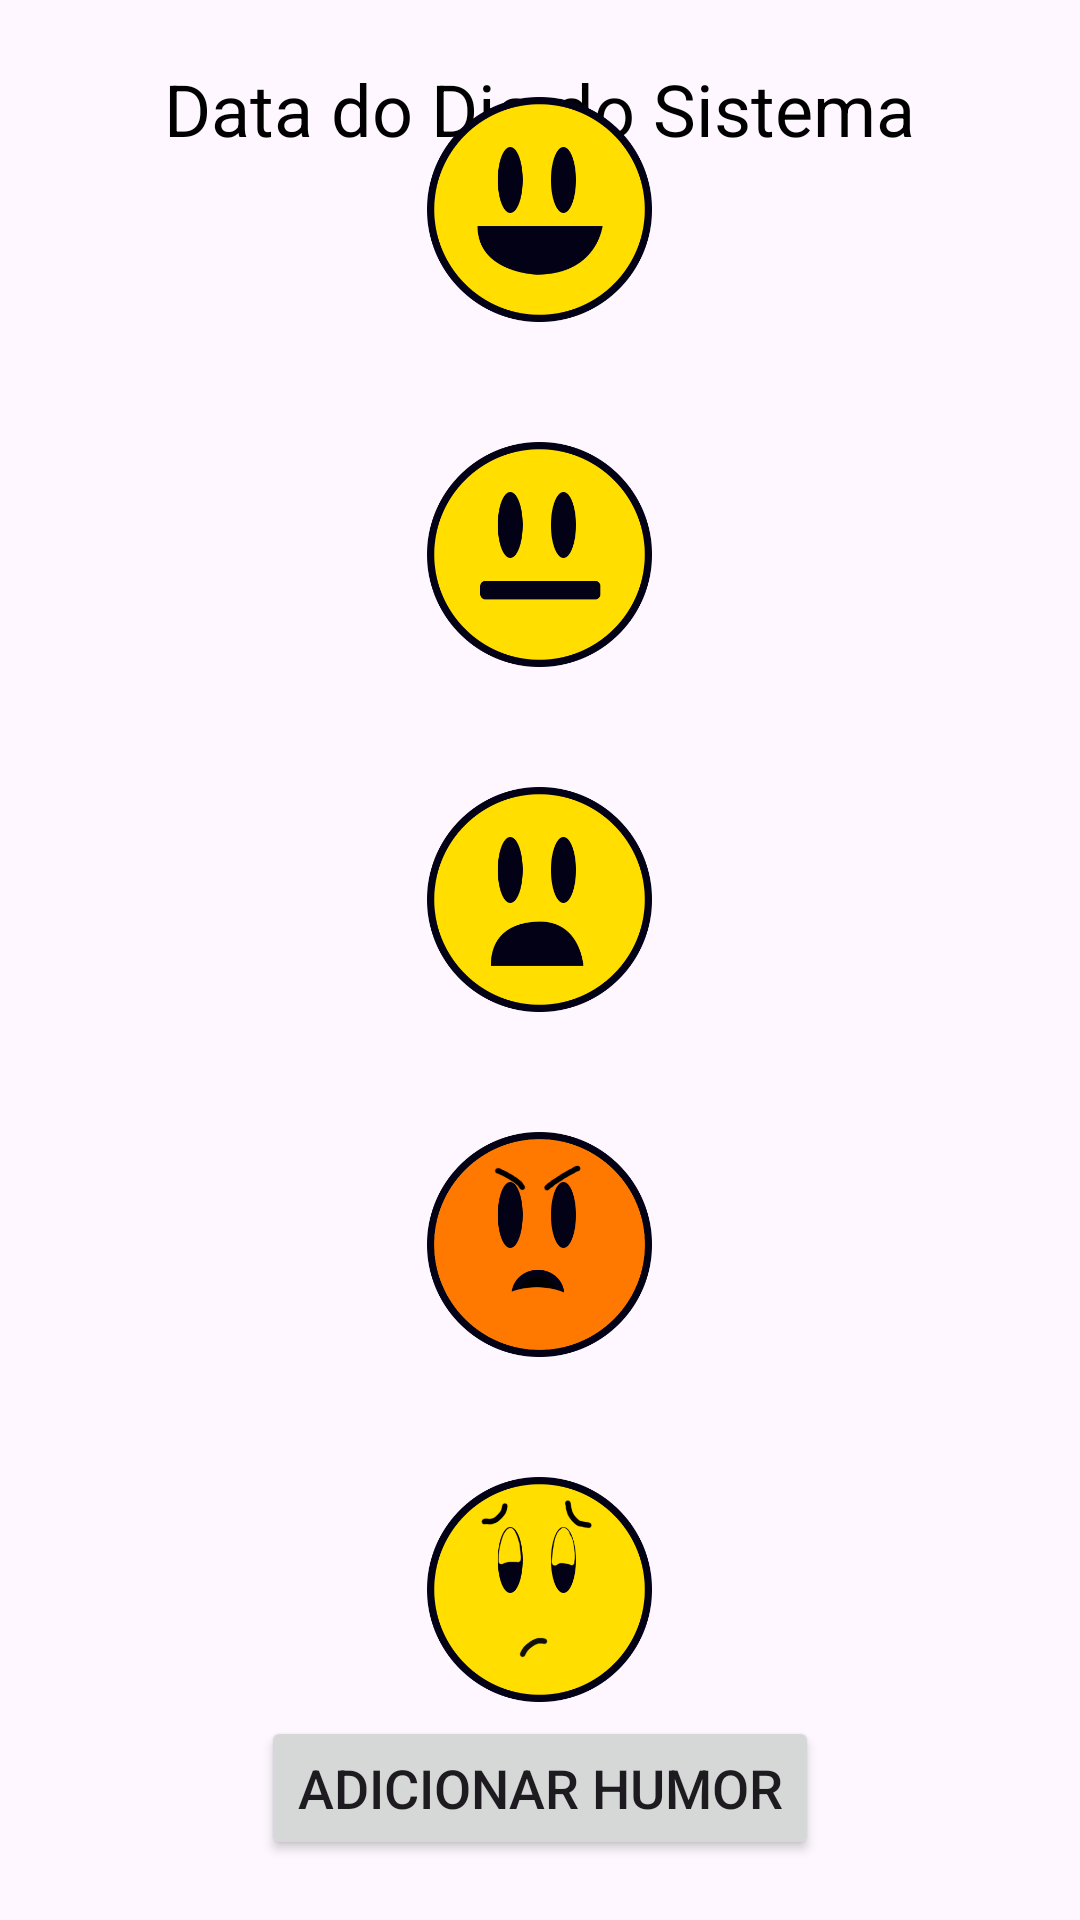

Locate icon controls on the screen. Image size 1080w x 1920h, boxes as (x1, y1, x2, y2).
angry: (427, 1132, 652, 1357)
happy: (427, 97, 652, 322)
neutral: (427, 442, 652, 667)
tired: (427, 1477, 652, 1702)
